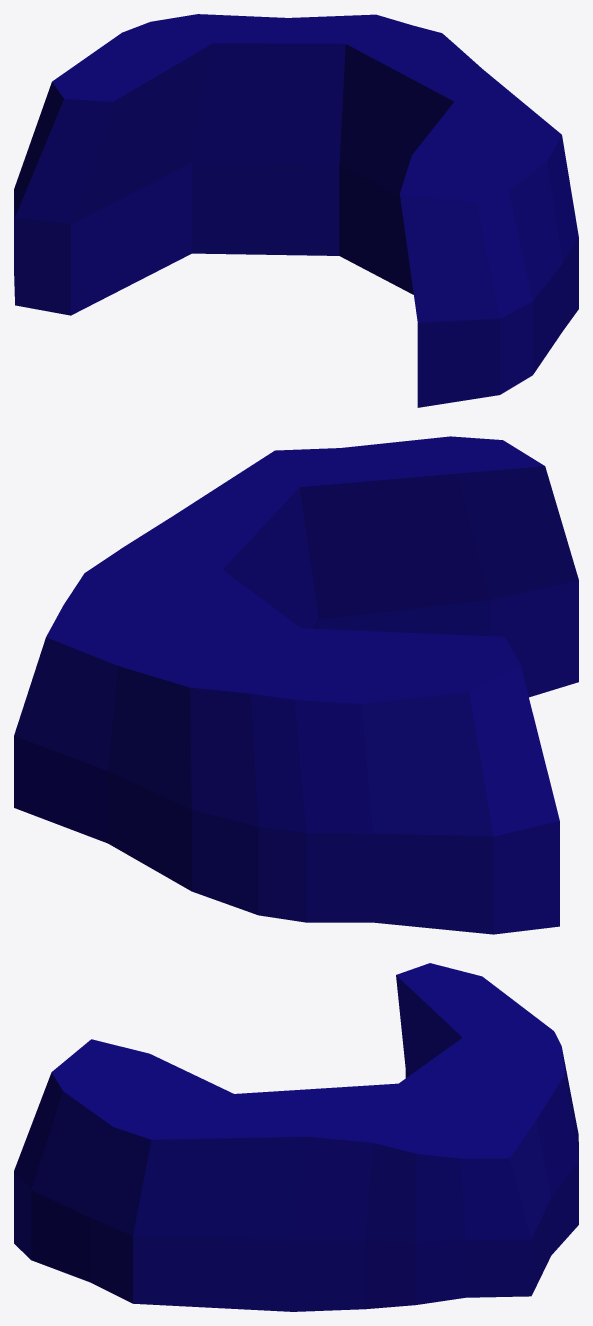
The model's file is BlueObject1.fbx.
3 renders of one model, top to bottom at view 1: azimuth 30°, elevation 25°; view 2: azimuth 150°, elevation 25°; view 3: azimuth 270°, elevation 25°, orthographic. The views are drawn at different scales.
Parts seen in each view (by area): view 1: BlueObject1; view 2: BlueObject1; view 3: BlueObject1.
Boxes of the visible parts, <box> form: BlueObject1: <box>14,14,578,407</box>; BlueObject1: <box>14,436,578,934</box>; BlueObject1: <box>14,963,578,1311</box>.
Bounding box in the file's own units: 5.46 × 2.62 × 6.76.
